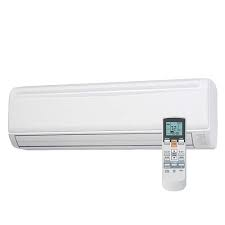ac: (4, 76, 220, 153)
